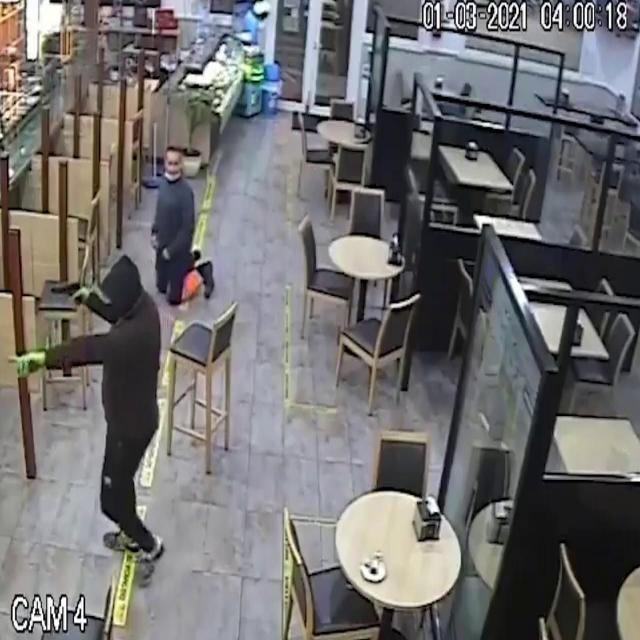Gun: (39, 262, 94, 317)
